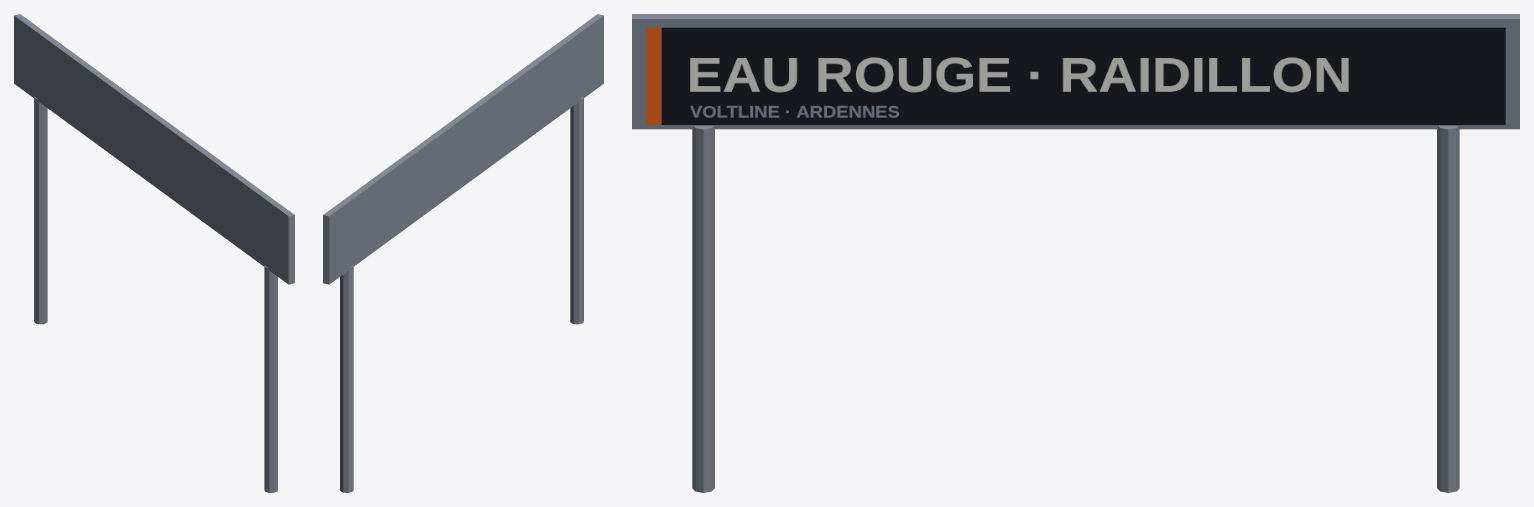
File: corner_sign_eau_rouge.glb
3 renders of one model, left to right at view 1: azimuth 30°, elevation 25°; view 2: azimuth 150°, elevation 25°; view 3: azimuth 270°, elevation 25°, orthographic. The views are drawn at different scales.
Parts seen in each view (by area): view 1: cornersign; view 2: cornersign; view 3: cornersign.
Part boxes in pixels (x1,y1,x2,y2): cornersign: (14,14,294,492); cornersign: (323,14,603,492); cornersign: (632,14,1519,492).
Bounding box in the file's own units: 0.16 × 3.62 × 6.2.
2 materials, 1 textured.
